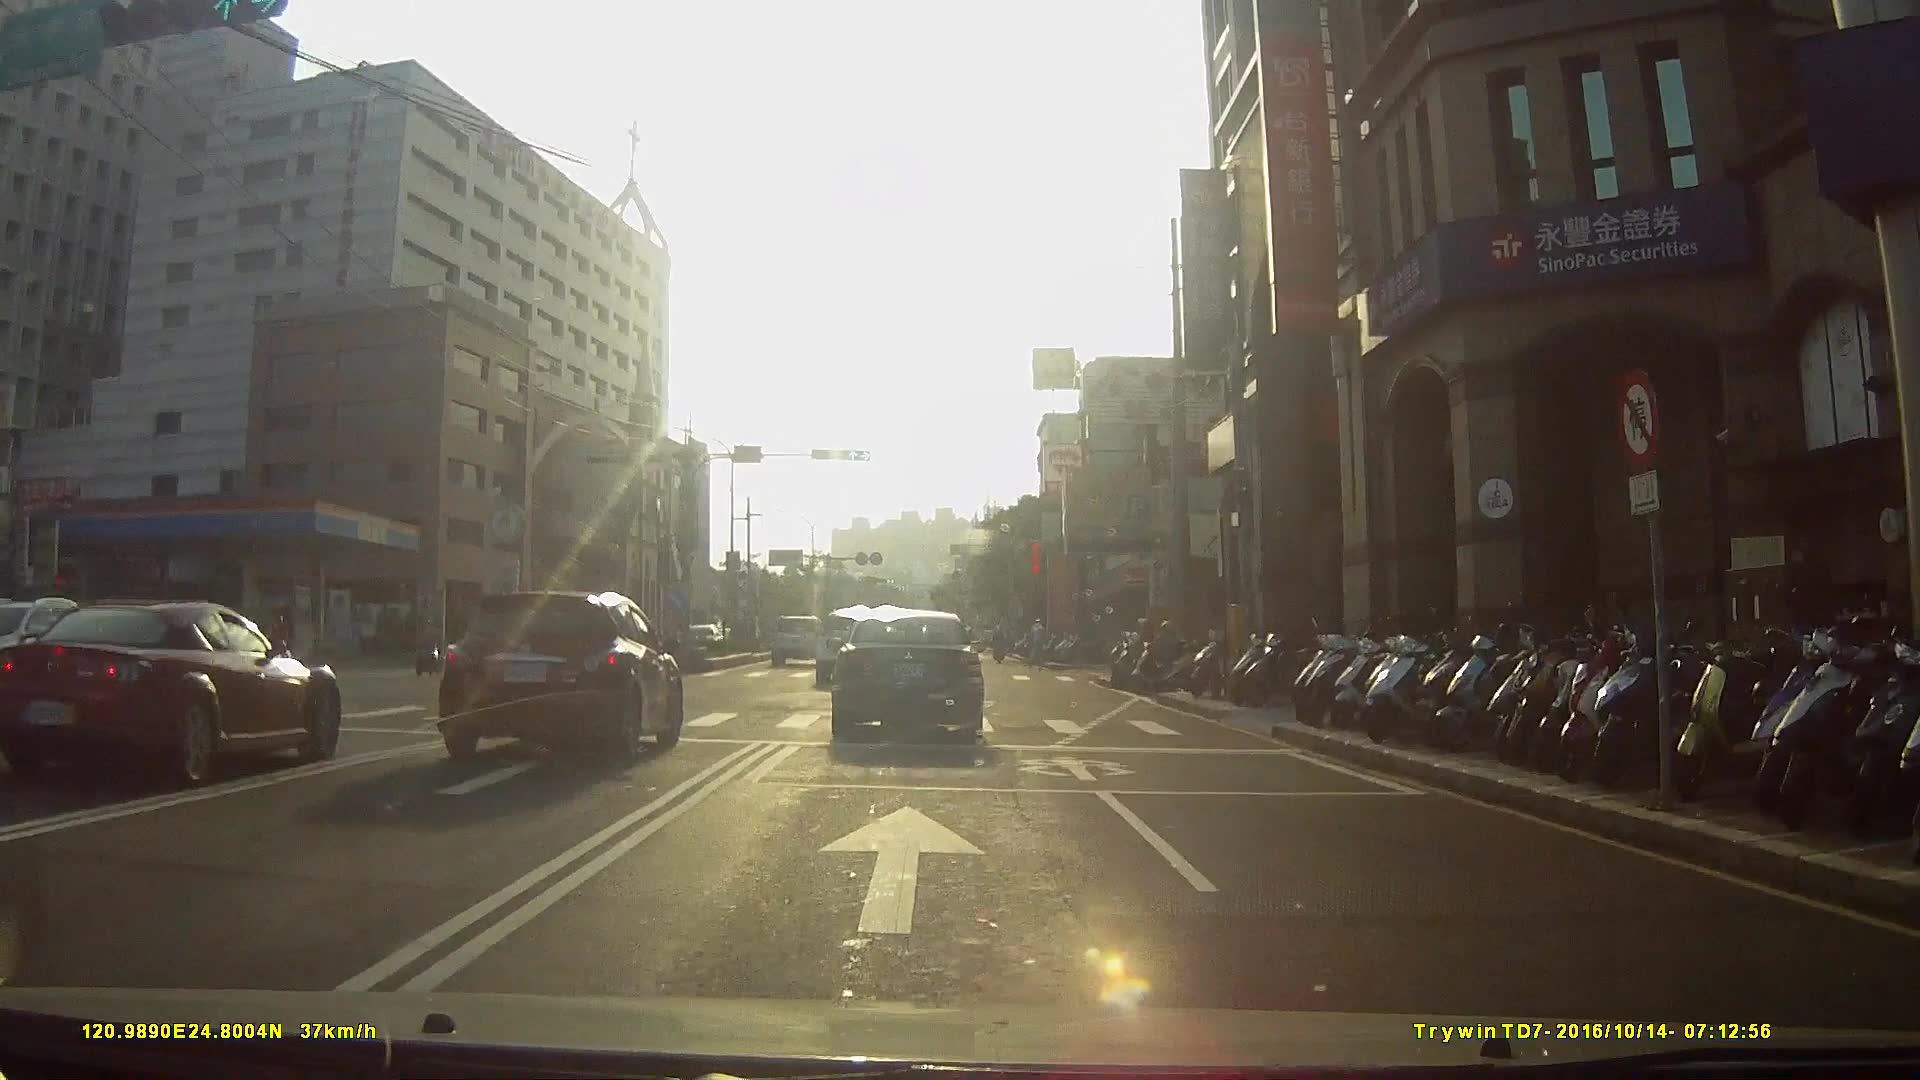rider: (1124, 620, 1210, 695), (415, 619, 442, 675)
vehicle: (1, 595, 352, 799), (428, 587, 699, 770), (825, 607, 998, 745), (814, 606, 893, 690), (772, 612, 831, 667)
